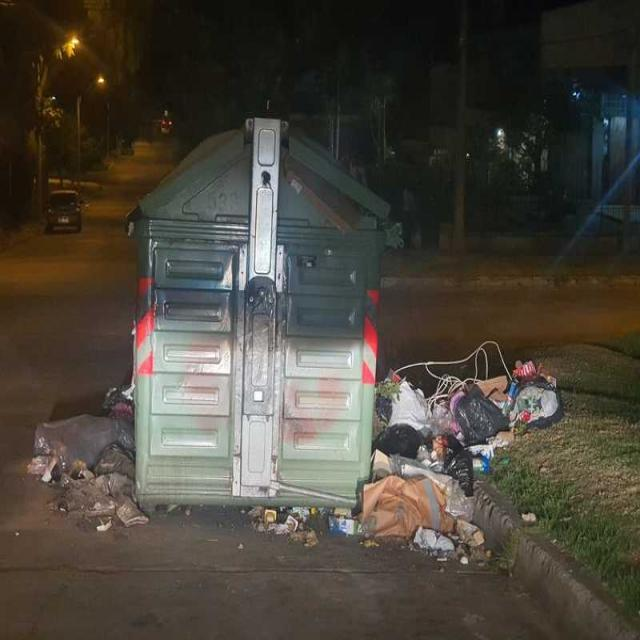garbage: (359, 337, 563, 571), (23, 372, 147, 540), (278, 148, 406, 258), (248, 502, 370, 543)
